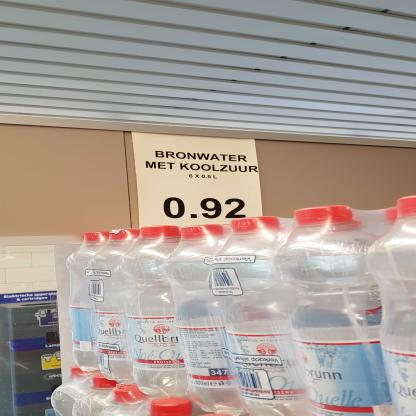prtg: (132, 133, 266, 228)
